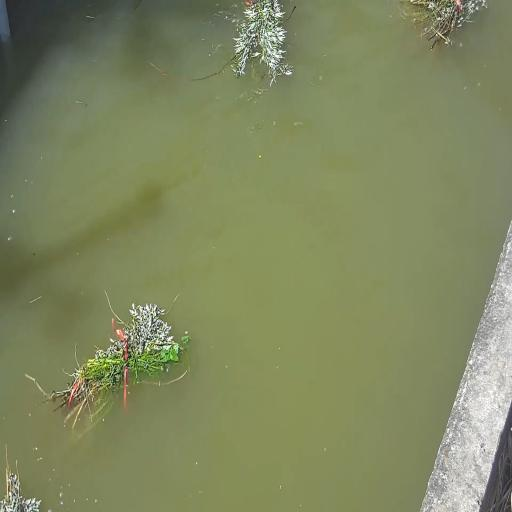twig: (34, 294, 194, 427), (153, 2, 290, 84), (399, 1, 484, 52)
